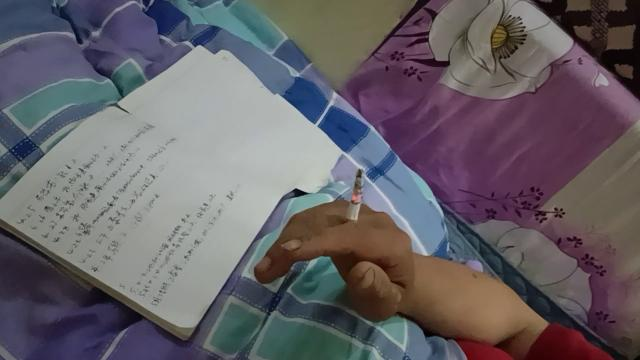Cigarette: (343, 169, 365, 235)
